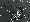person: (19, 8, 24, 20), (13, 8, 18, 20)
